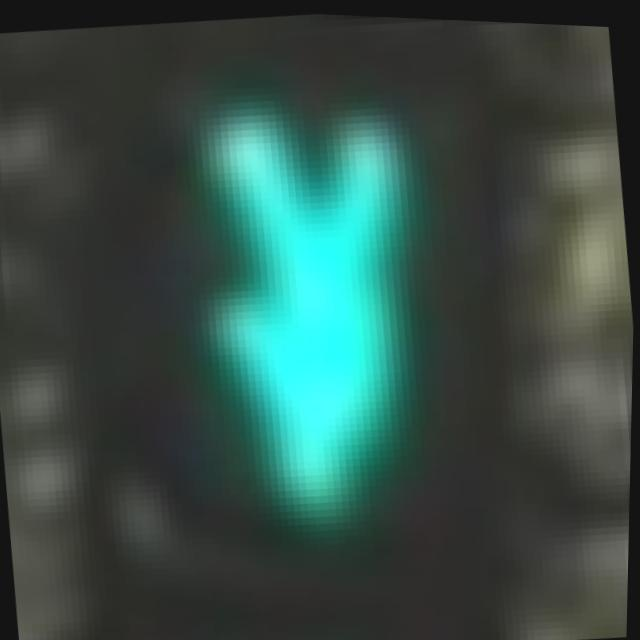green_light: (177, 99, 474, 577)
